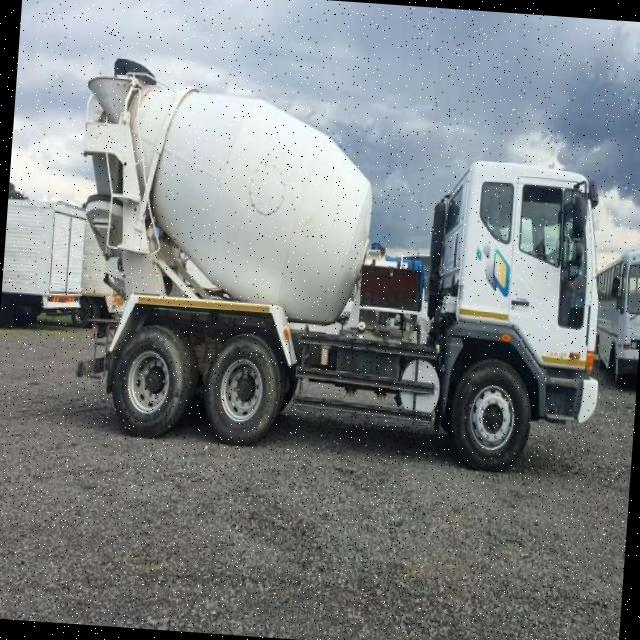Mixer Truck: (62, 55, 618, 479)
